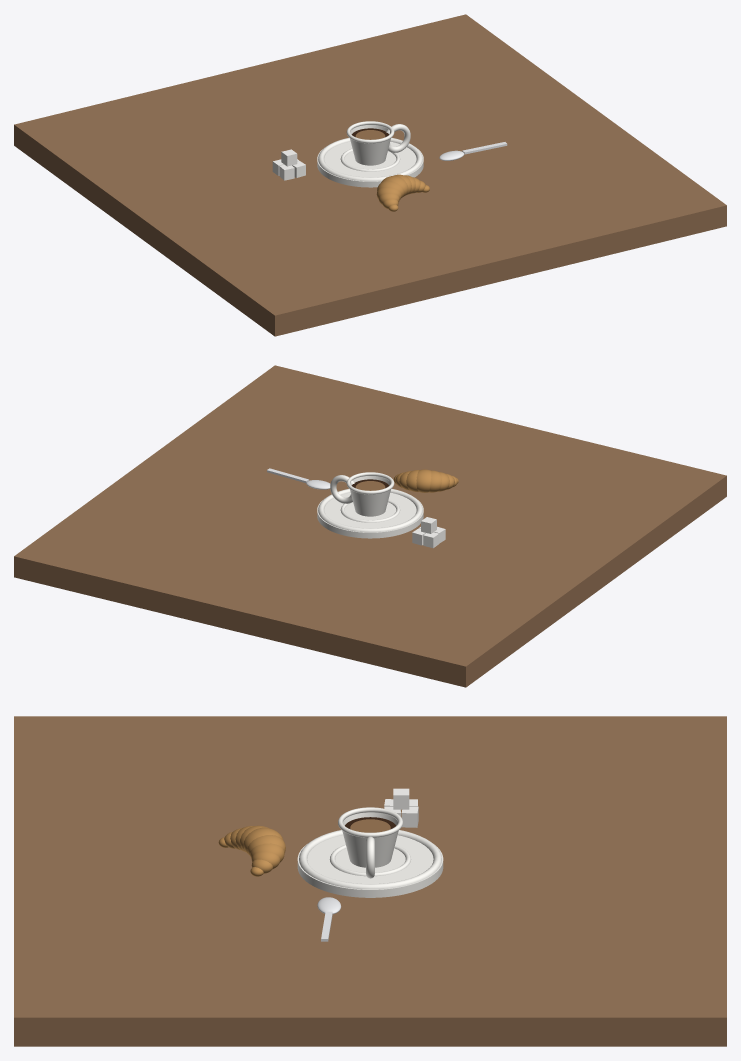
3 views of the same model, one above another, from view 1: azimuth 30°, elevation 25°; view 2: azimuth 150°, elevation 25°; view 3: azimuth 270°, elevation 25° (orthographic). The views are drawn at different scales.
Parts seen in each view (by area): view 1: Table, SaucerBase, CupWall, SaucerRim; view 2: Table, SaucerBase, CupWall, SaucerRim; view 3: Table, SaucerBase, SaucerRim, CupWall, CupRim, SaucerWellRing.
Boxes of the visible parts, x1,y1,x2,y2 form: Table: (14, 14, 726, 336); SaucerBase: (317, 141, 423, 187); CupWall: (350, 125, 390, 165); SaucerRim: (318, 138, 422, 181); Table: (14, 365, 726, 687); SaucerBase: (317, 492, 423, 538); CupWall: (350, 476, 390, 516); SaucerRim: (318, 489, 422, 532); Table: (14, 716, 726, 1046); SaucerBase: (297, 835, 443, 897); SaucerRim: (299, 830, 441, 889); CupWall: (342, 812, 398, 867); CupRim: (338, 807, 402, 837); SaucerWellRing: (329, 844, 411, 876).
Size of the model in its own units: 0.9 by 0.1052 by 0.9.
